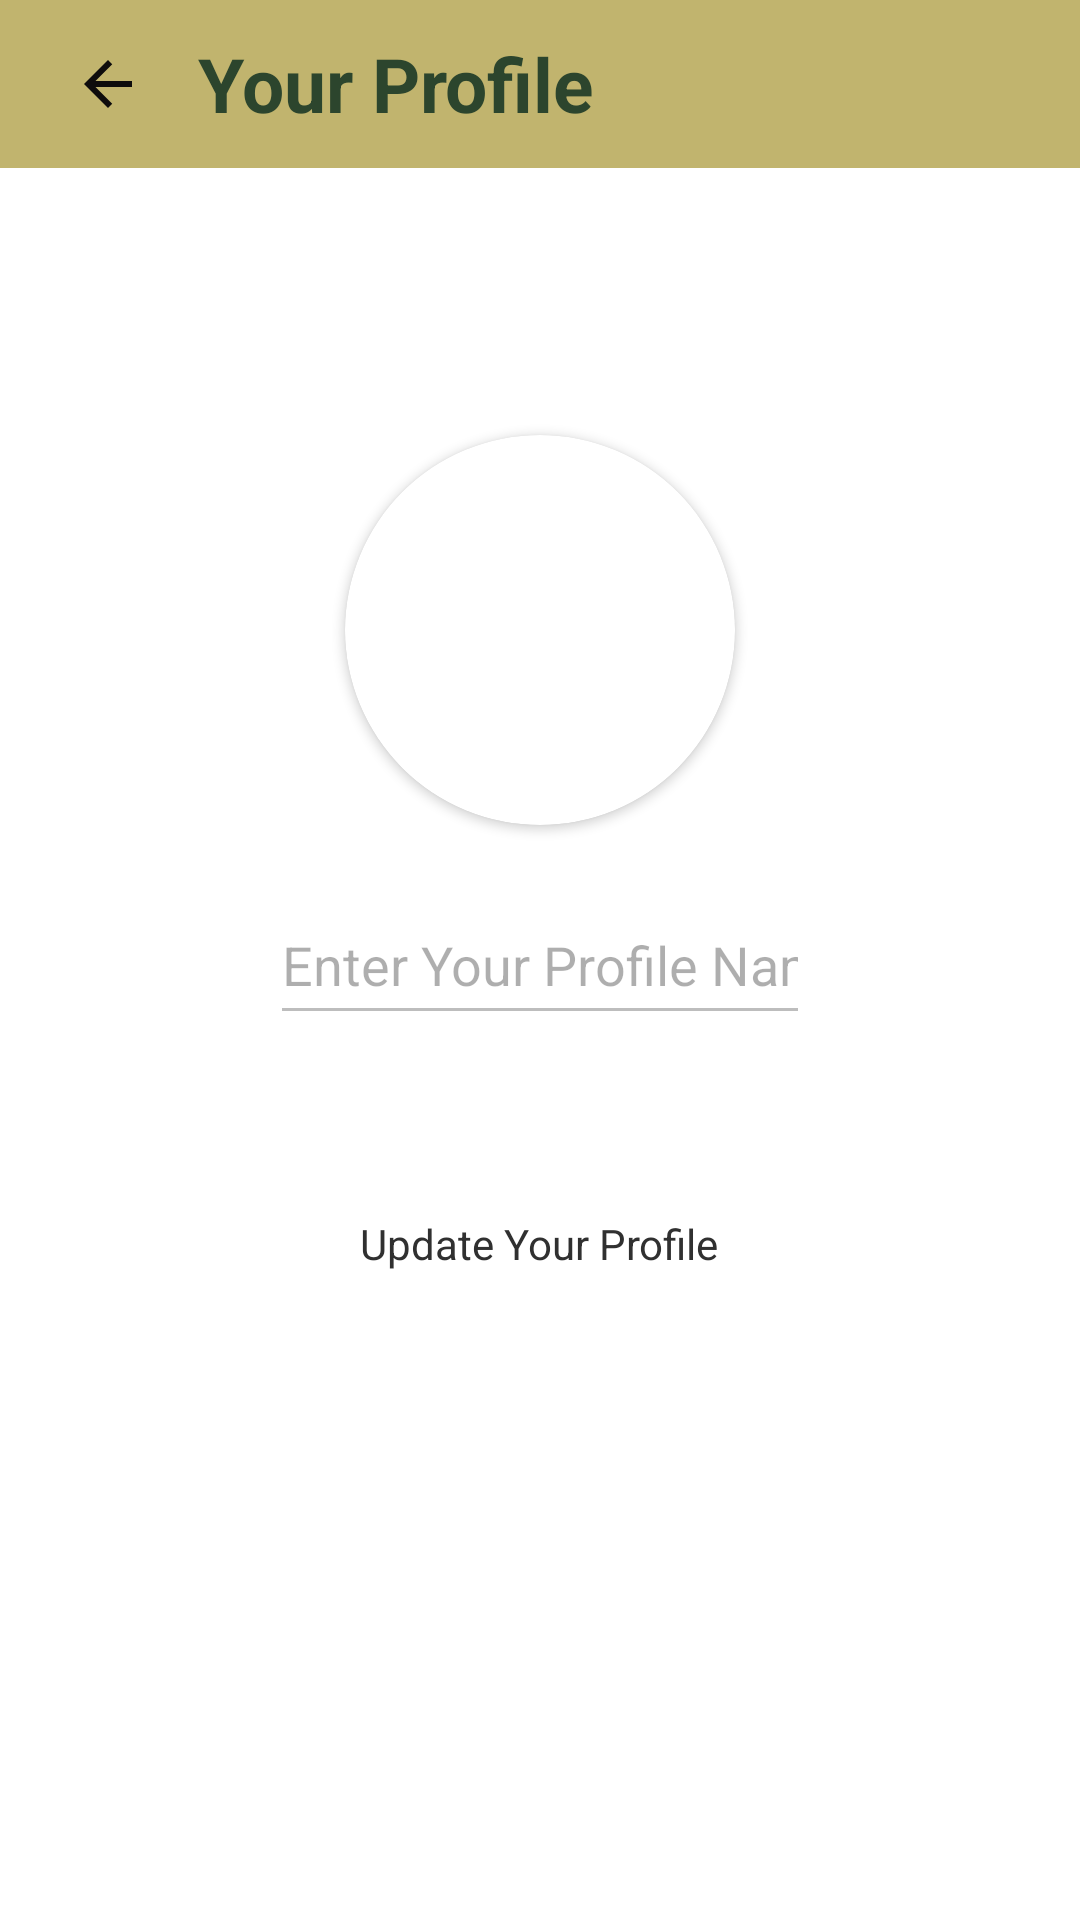

Icon bounding boxes for this 1080*1920 phone screenshot, format (x1, y1, x2, y2):
arrow back: (84, 60, 132, 108)
